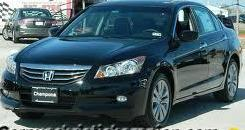front_view: (2, 51, 156, 128)
headlight: (98, 53, 147, 79)
side_glass: (163, 2, 223, 35)
